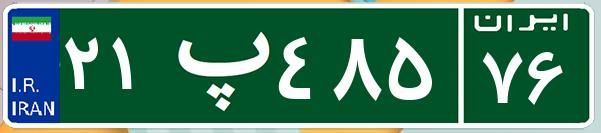1: (110, 28, 158, 105)
2: (57, 26, 110, 107)
4: (273, 28, 330, 110)
5: (385, 28, 445, 110)
6: (525, 38, 570, 115)
7: (475, 38, 525, 113)
8: (330, 28, 385, 110)
پ: (158, 15, 273, 115)
